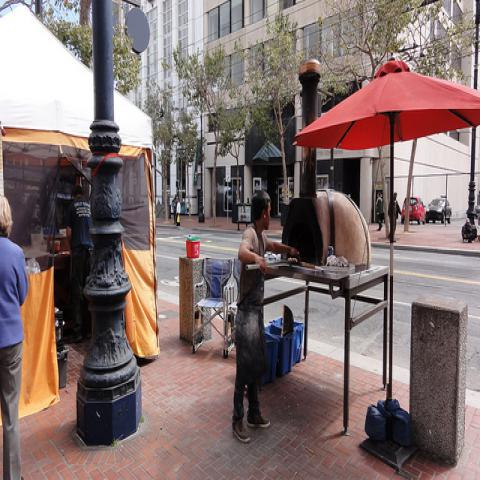car: (425, 194, 452, 224), (401, 196, 426, 225)
